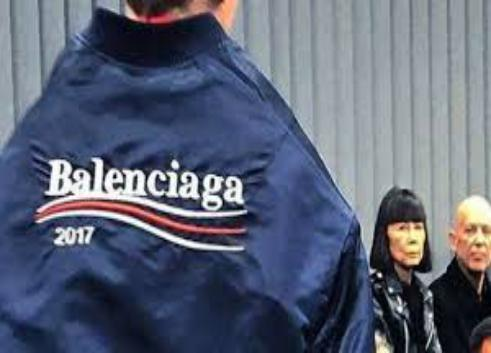BALENCIAGA: (32, 157, 250, 254)
